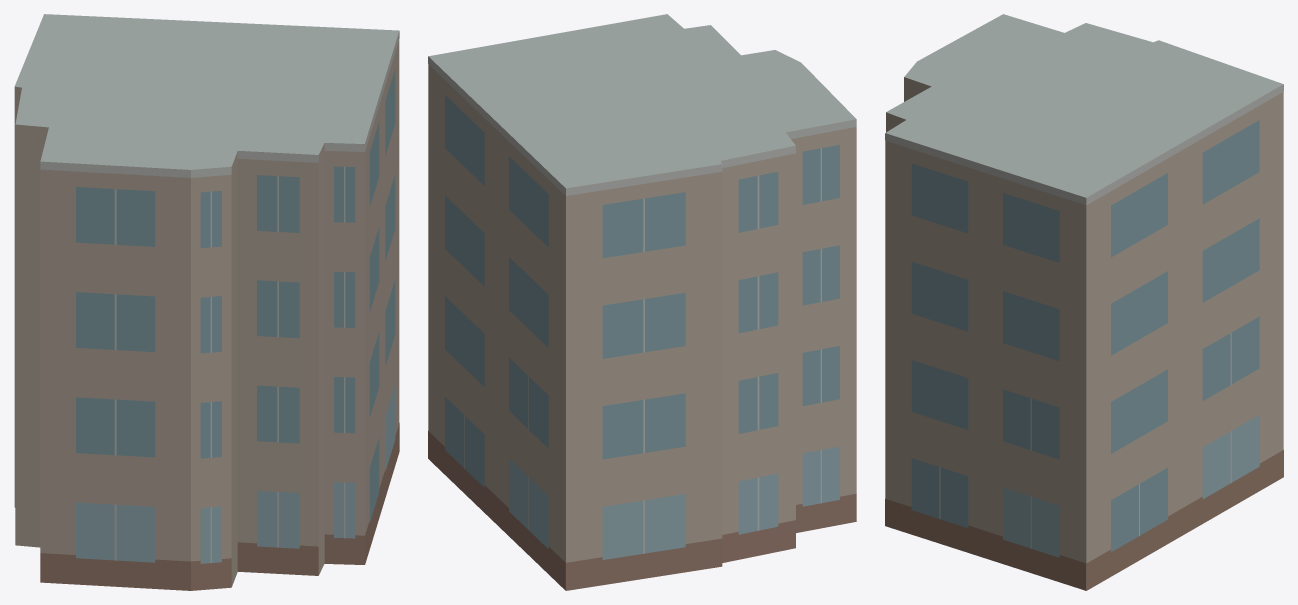
Rendered from survey-upis-32507286.glb.
3 renders of one model, left to right at view 1: azimuth 30°, elevation 25°; view 2: azimuth 150°, elevation 25°; view 3: azimuth 270°, elevation 25°, orthographic. The views are drawn at different scales.
Parts seen in each view (by area): view 1: survey-upis-32507286.tmp; view 2: survey-upis-32507286.tmp; view 3: survey-upis-32507286.tmp.
Boxes of the visible parts, <box> form: survey-upis-32507286.tmp: <box>14,14,399,590</box>; survey-upis-32507286.tmp: <box>428,14,856,590</box>; survey-upis-32507286.tmp: <box>885,14,1283,590</box>.
Size of the model in its own units: 12.95 by 12.9 by 11.87.
